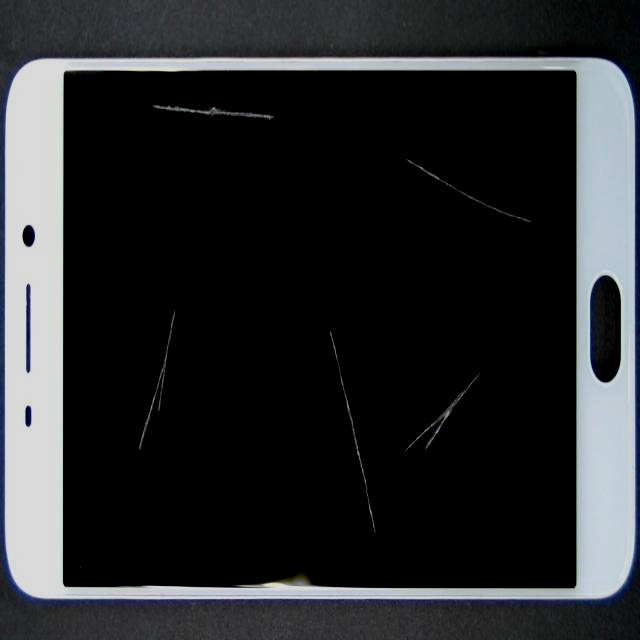scratch: (172, 297, 550, 640)
